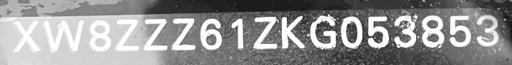letter: (42, 17, 86, 54), (306, 13, 338, 50), (250, 16, 280, 51), (12, 18, 42, 53), (279, 14, 307, 51), (474, 12, 502, 47), (418, 13, 446, 48), (448, 11, 474, 48), (392, 12, 418, 49), (338, 13, 364, 50), (170, 16, 196, 53), (364, 14, 390, 49), (142, 16, 168, 51), (198, 17, 224, 52), (87, 17, 113, 52), (114, 17, 140, 52), (228, 16, 246, 51)
